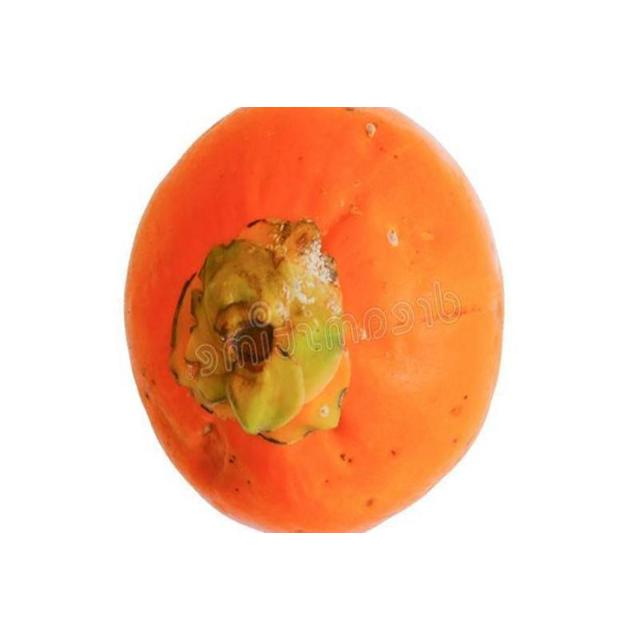good: (122, 107, 509, 533)
